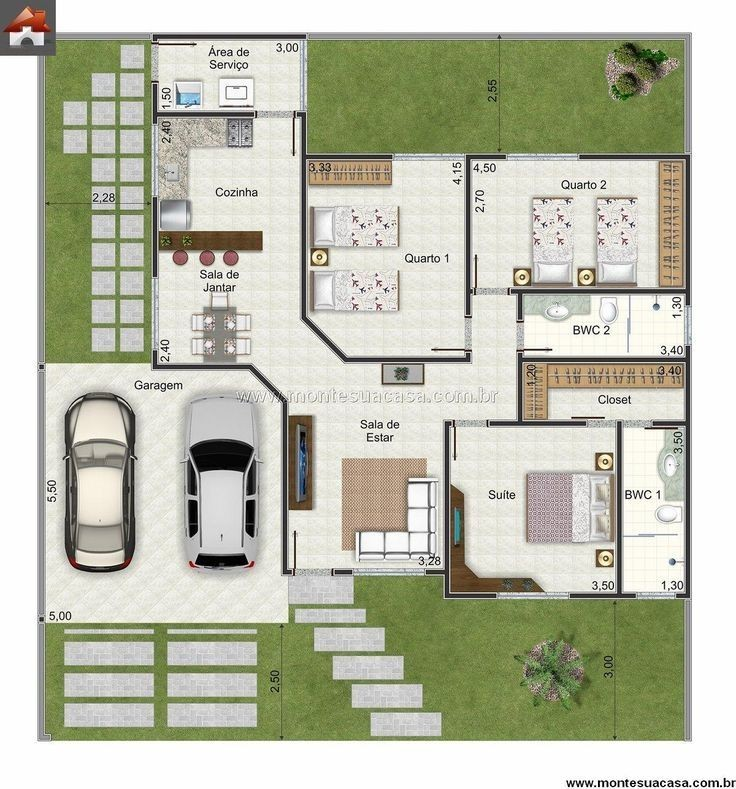room: (272, 328, 452, 580), (151, 108, 306, 372), (299, 151, 472, 365), (443, 418, 623, 603), (465, 154, 690, 295), (613, 420, 692, 600), (512, 286, 695, 363), (151, 33, 308, 118), (516, 356, 690, 427)
